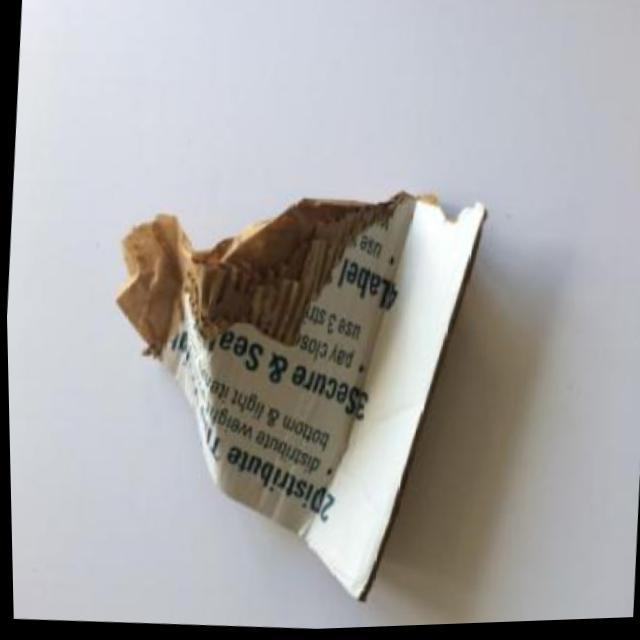box: (75, 83, 527, 638)
